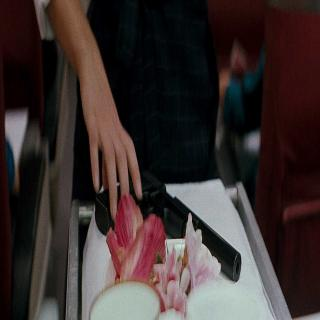gun: (88, 124, 244, 298)
